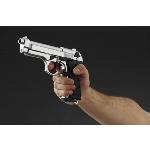Pistol: (16, 33, 82, 102)
